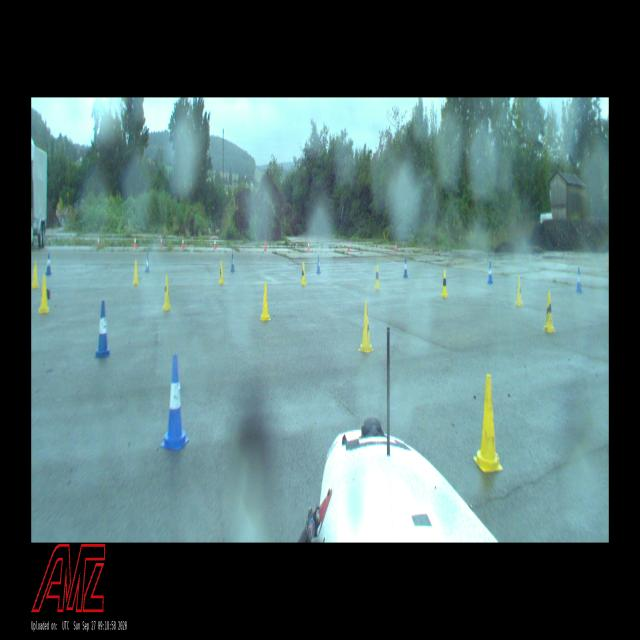blue_cone: (160, 355, 190, 451), (95, 301, 111, 358), (576, 267, 582, 293), (487, 261, 493, 284), (46, 252, 51, 275), (145, 252, 150, 273), (230, 252, 235, 272), (403, 258, 408, 278), (316, 256, 321, 274)
orange_cone: (160, 235, 163, 248), (181, 236, 184, 248), (263, 241, 266, 252), (134, 235, 136, 248), (98, 235, 100, 248), (214, 237, 216, 249), (348, 240, 350, 252), (395, 242, 397, 253), (308, 242, 310, 251)
yellow_cone: (473, 373, 503, 472), (359, 302, 373, 353), (542, 292, 556, 333), (38, 274, 50, 313), (260, 282, 270, 320), (162, 276, 172, 310), (514, 275, 524, 307), (31, 260, 39, 288), (441, 270, 448, 298), (374, 264, 380, 290), (132, 259, 138, 284), (218, 260, 224, 284), (300, 262, 306, 285)
